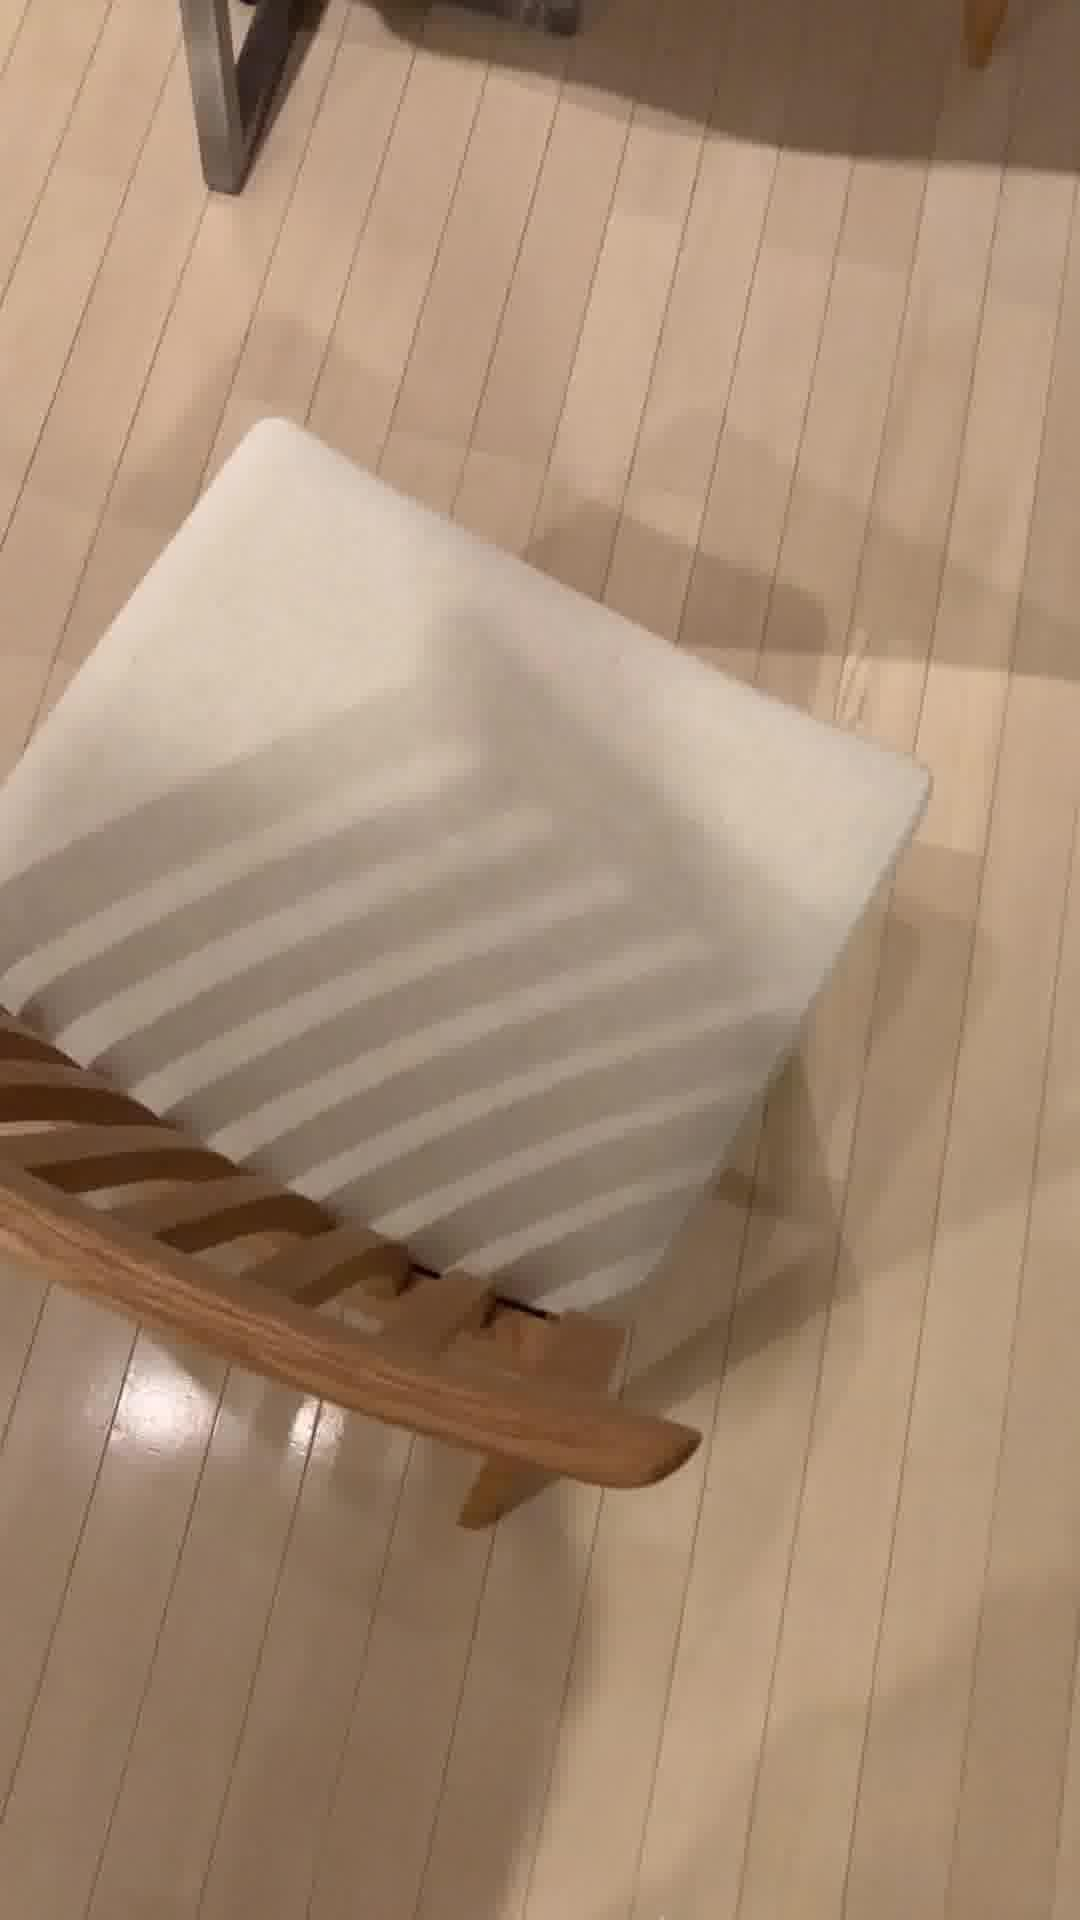takumikan-chair: (0, 414, 938, 1536)
